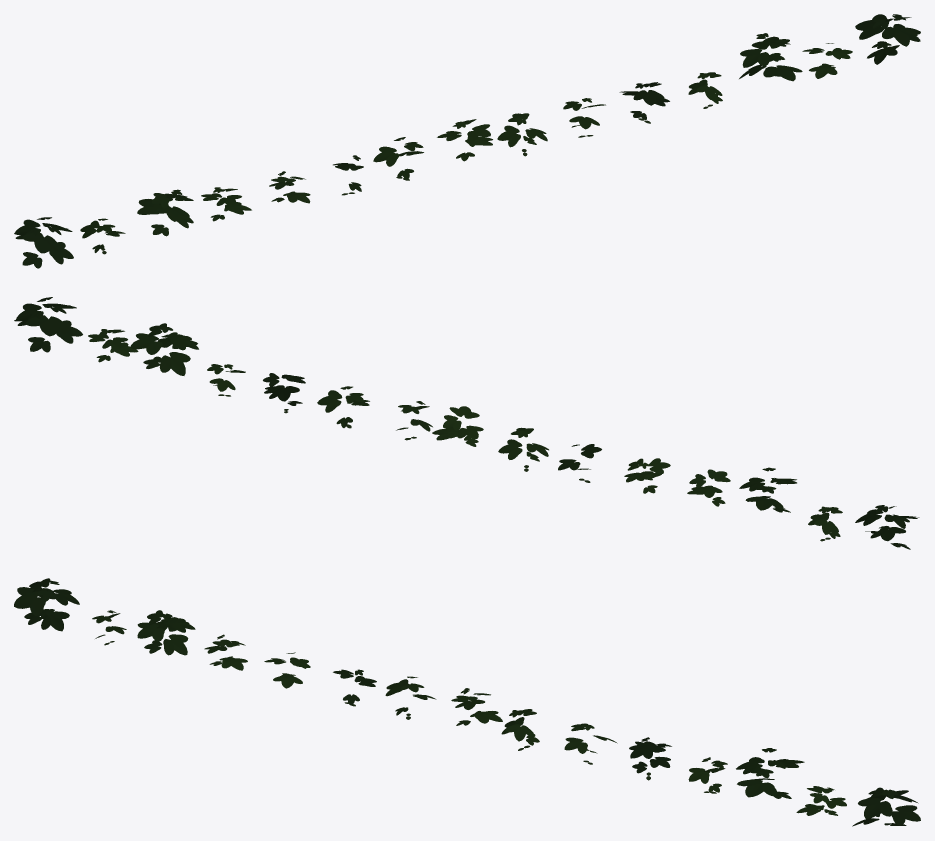
File: ROW_06_SEG4_foliage.dae
3 views of the same model, one above another, from view 1: azimuth 30°, elevation 25°; view 2: azimuth 150°, elevation 25°; view 3: azimuth 330°, elevation 25° (orthographic).
Visible parts, largest first — view 1: ROW_06_SEG4_foliage; view 2: ROW_06_SEG4_foliage; view 3: ROW_06_SEG4_foliage.
Part boxes in pixels (left/top/right/bottom): ROW_06_SEG4_foliage: left=14, top=14, right=920, bottom=268; ROW_06_SEG4_foliage: left=14, top=297, right=919, bottom=549; ROW_06_SEG4_foliage: left=14, top=578, right=920, bottom=826.
Size of the model in its own units: 4.55 by 0.3396 by 0.2688.
